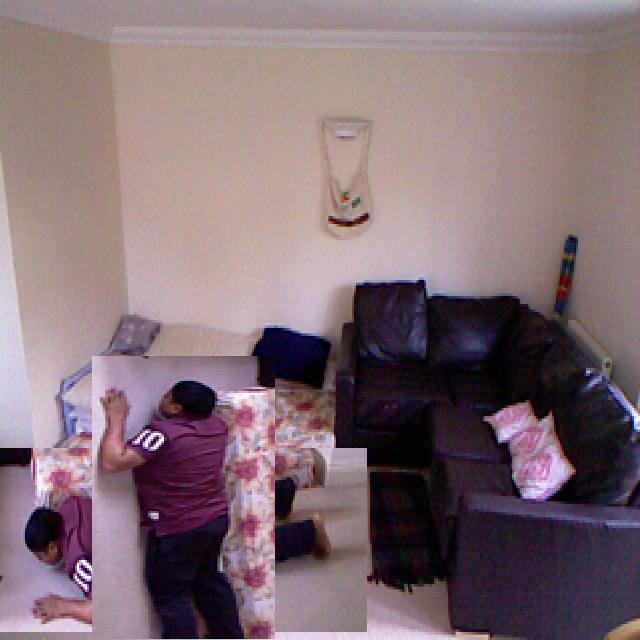Fall: (100, 339, 270, 640)
